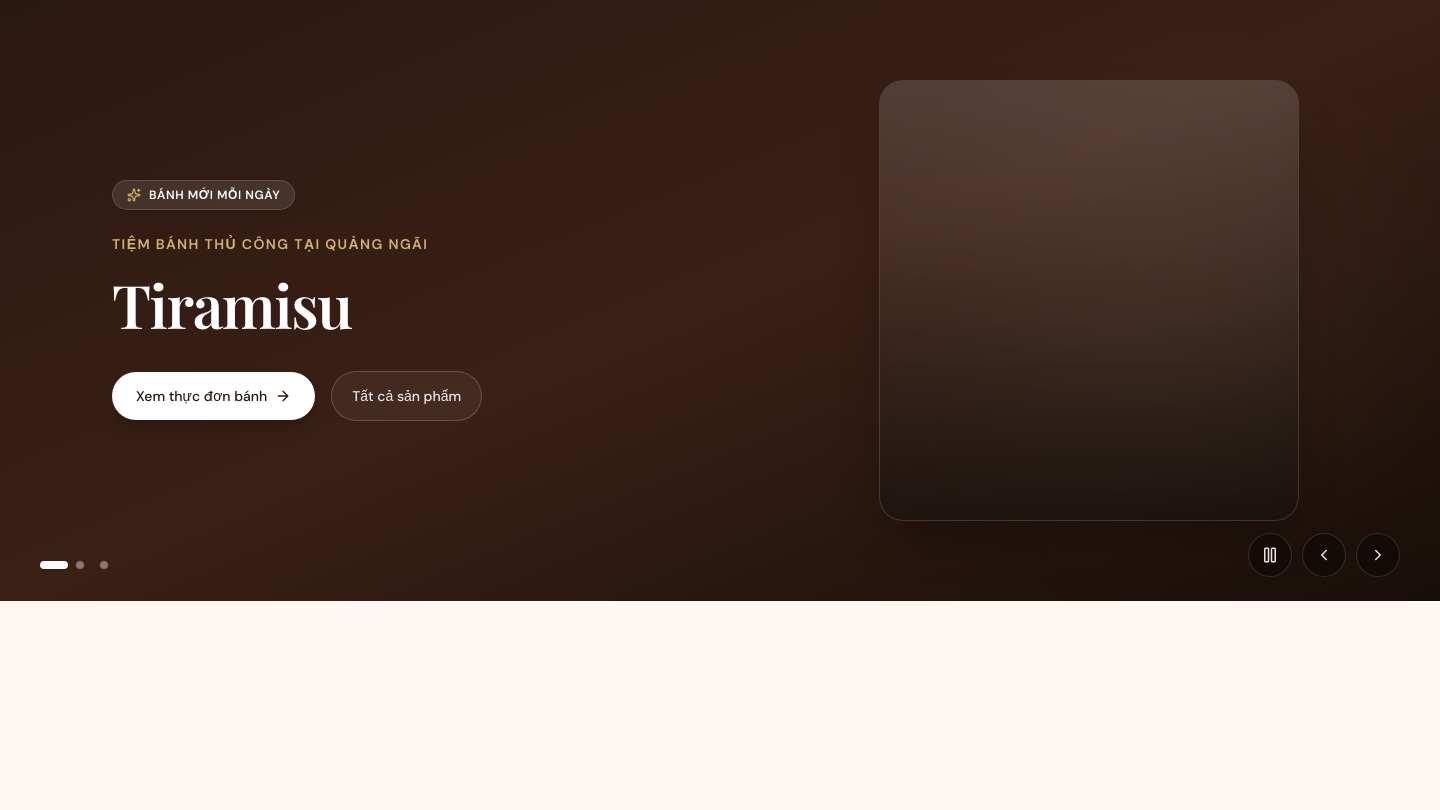
Test case: BannerCarousel › choosing a slide stops autoplay
Click the button named "Ảnh banner 3": point(104, 565) [92,553,116,577]
Wait 5000 ms
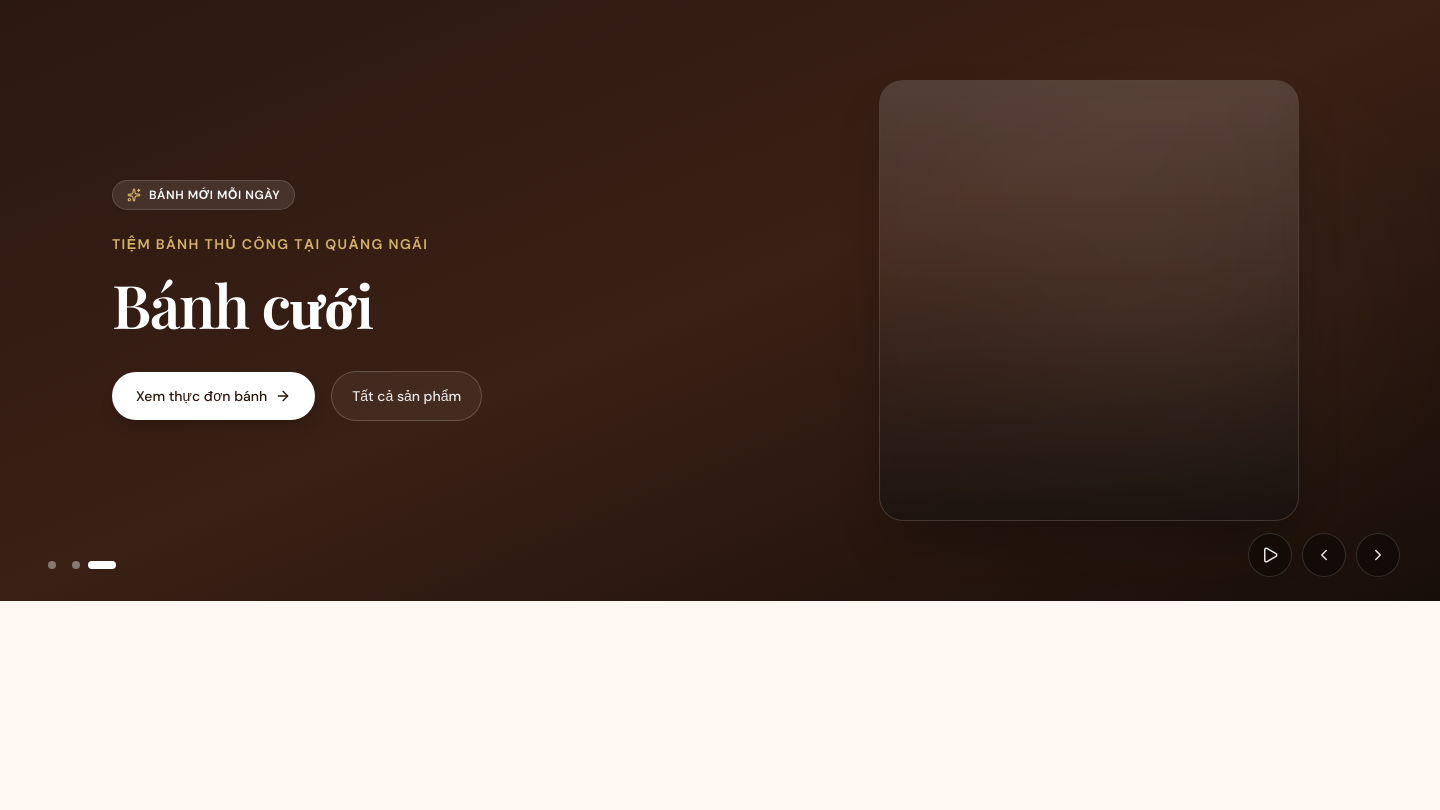
Now the heading reads "Bánh cưới", box [112,264,373,344]
